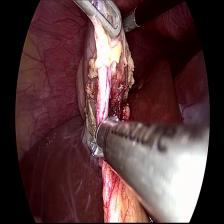Clipper: (83, 113, 128, 158)
Grasper: (72, 0, 122, 44)
